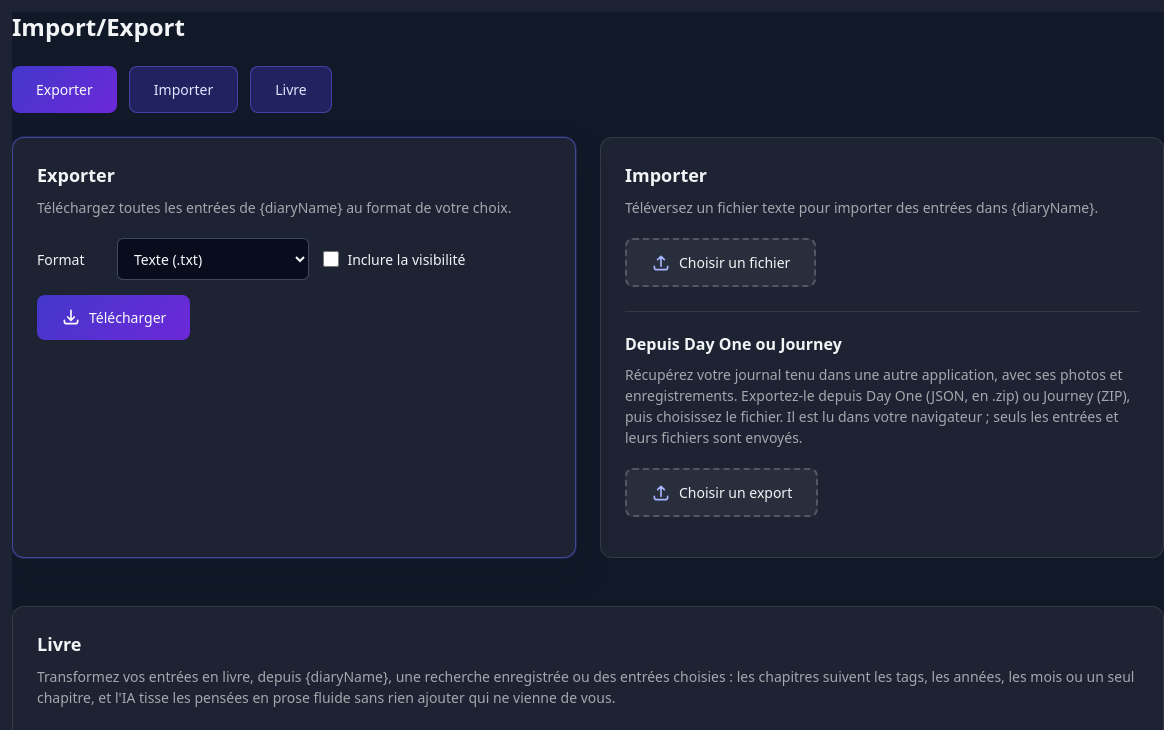
Test case: ImportExport refusals › shows the reason a refused export gives, in fr
This screenshot has width=1164, height=730.
Click the button "Télécharger": [114, 317] box top-left (37, 295), bottom-right (190, 340)
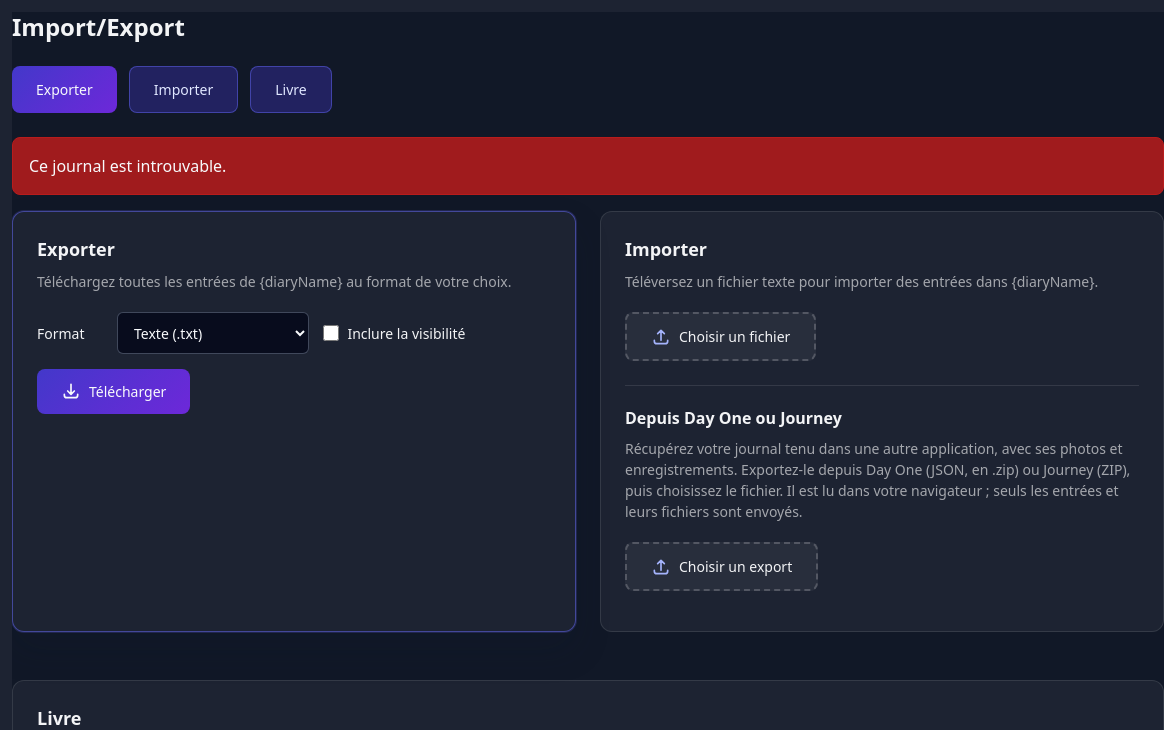
Result: the text "Ce journal est introuvable." is shown at top-left (12, 137), bottom-right (1163, 195)
